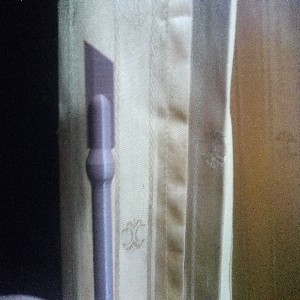cutter: (82, 39, 116, 300)
